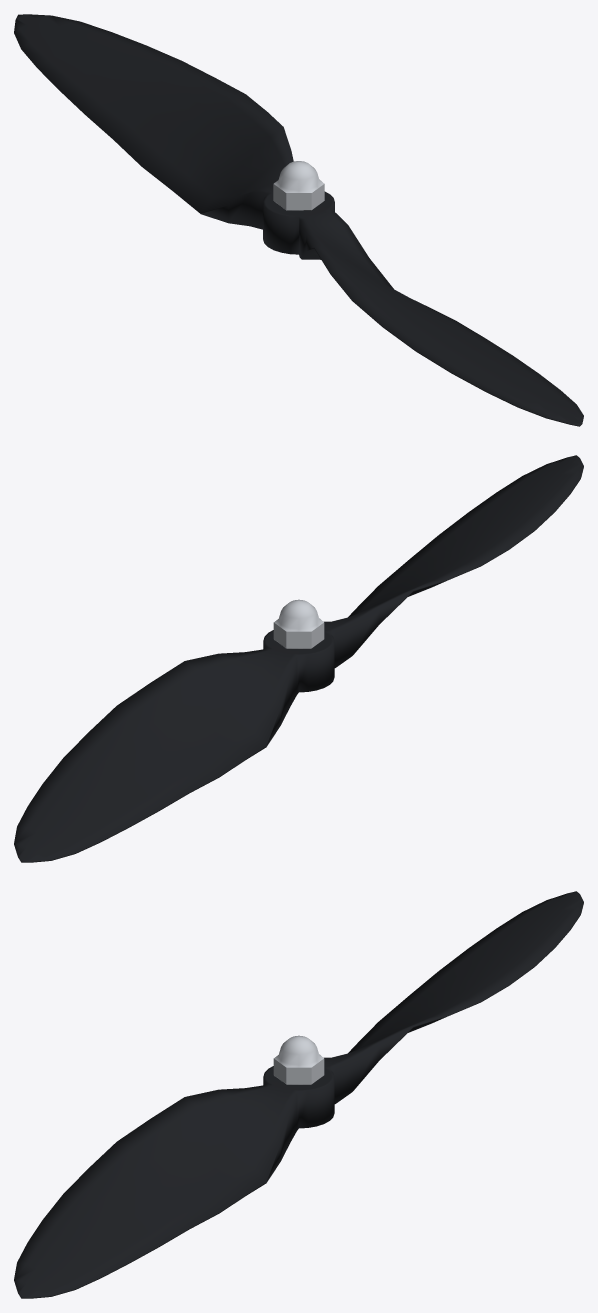
Rendered from HQProp_8045.fbx.
3 views of the same model, one above another, from view 1: azimuth 30°, elevation 25°; view 2: azimuth 150°, elevation 25°; view 3: azimuth 330°, elevation 25° (orthographic).
Parts seen in each view (by area): view 1: R3_PROP_HQProp_8045, R3_NUT_HQProp_8045; view 2: R3_PROP_HQProp_8045, R3_NUT_HQProp_8045; view 3: R3_PROP_HQProp_8045, R3_NUT_HQProp_8045.
Boxes of the visible parts, x1,y1,x2,y2 form: R3_PROP_HQProp_8045: (14,14,583,426); R3_NUT_HQProp_8045: (273,161,324,210); R3_PROP_HQProp_8045: (14,455,583,862); R3_NUT_HQProp_8045: (273,599,324,648); R3_PROP_HQProp_8045: (14,891,583,1298); R3_NUT_HQProp_8045: (273,1035,324,1084).
Bounding box in the file's own units: 0.0274 × 0.0183 × 0.2032.
Materials: 1 (1 with a texture image).
